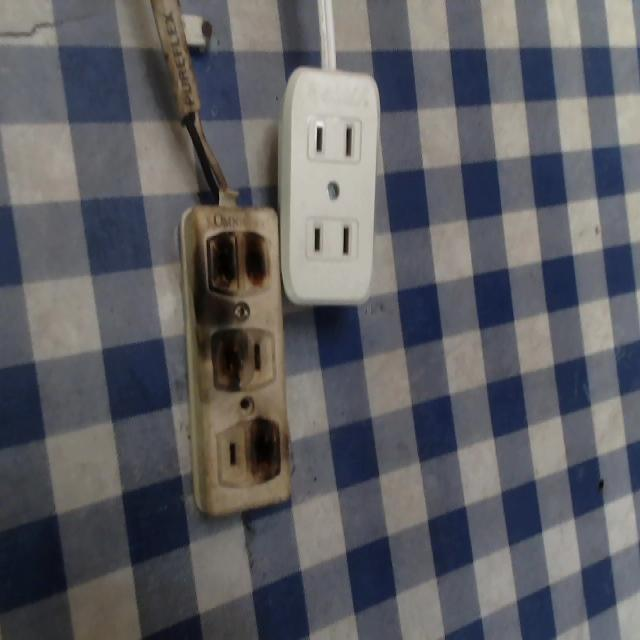-: (195, 227, 275, 301), (203, 325, 252, 399), (247, 411, 285, 489)
